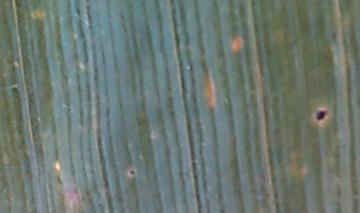tarspot: (316, 109, 326, 122), (128, 168, 136, 176), (81, 197, 86, 203)
